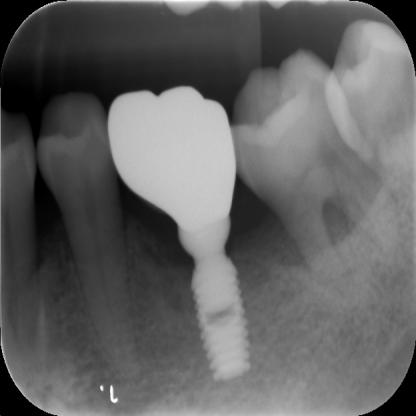Bicon: (176, 224, 254, 386)
